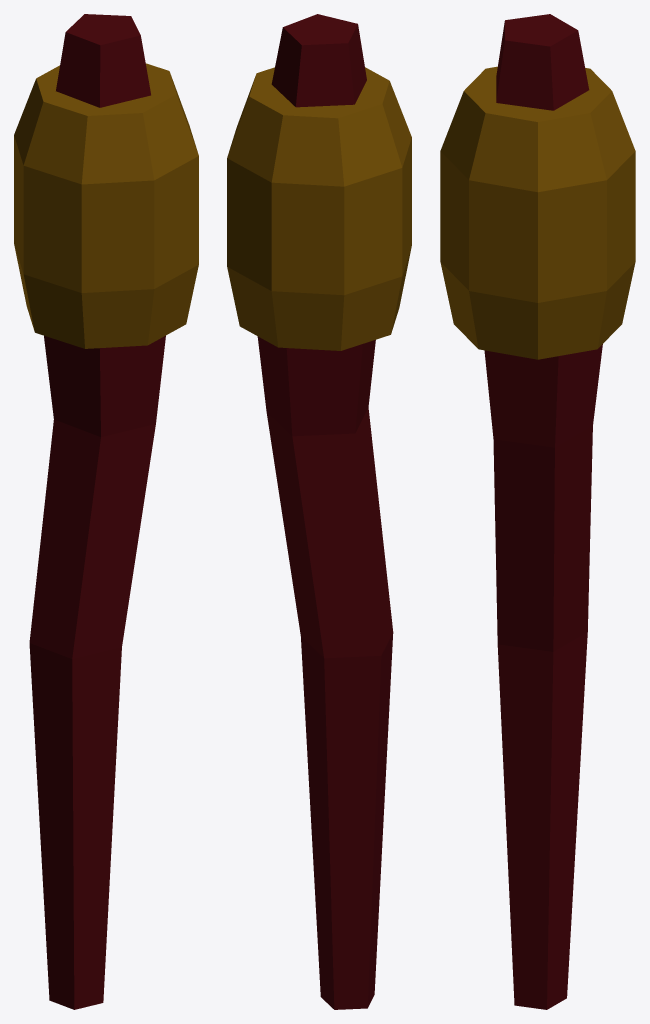
The model's file is torch.fbx.
3 renders of one model, left to right at view 1: azimuth 30°, elevation 25°; view 2: azimuth 150°, elevation 25°; view 3: azimuth 270°, elevation 25°, orthographic. The views are drawn at different scales.
Visible parts, largest first — view 1: Cylinder, Cylinder.001; view 2: Cylinder, Cylinder.001; view 3: Cylinder, Cylinder.001.
Part boxes in pixels (x1,y1,x2,y2): Cylinder: [29, 14, 165, 1009]; Cylinder.001: [14, 63, 198, 348]; Cylinder: [257, 14, 393, 1009]; Cylinder.001: [227, 67, 411, 350]; Cylinder: [484, 14, 602, 1009]; Cylinder.001: [440, 66, 635, 359].
Bounding box in the file's own units: 22.22 × 123 × 22.22.
